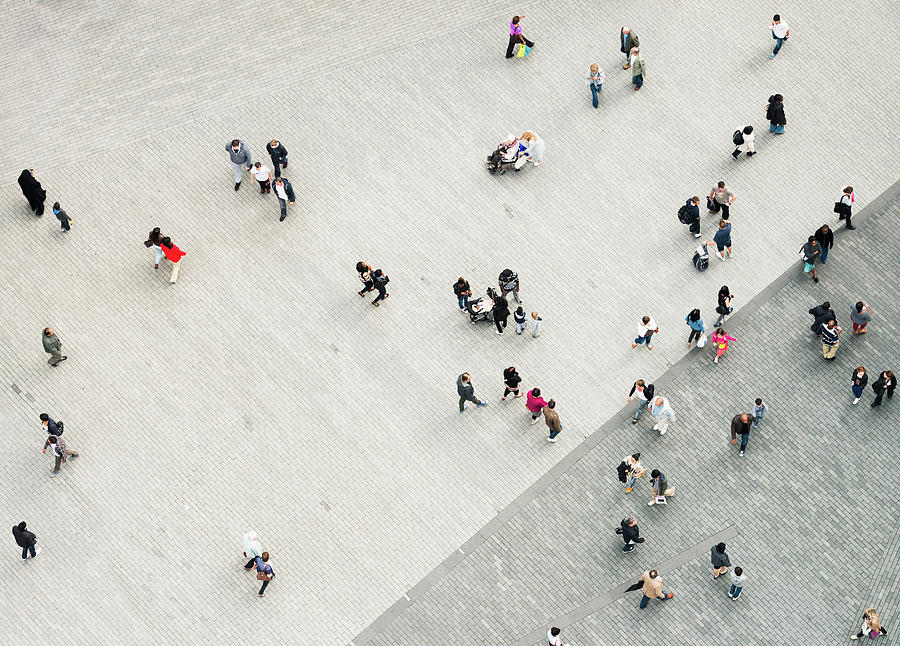person: (41, 434, 81, 479), (224, 139, 252, 191), (18, 168, 47, 218), (639, 569, 675, 609), (457, 371, 490, 413), (505, 14, 535, 60), (850, 607, 889, 641), (159, 236, 186, 285), (627, 379, 655, 426), (11, 520, 42, 562), (704, 219, 734, 262), (706, 180, 736, 222), (485, 134, 519, 171), (615, 515, 647, 553), (647, 396, 678, 435), (618, 452, 646, 495), (730, 412, 756, 458), (41, 325, 68, 368), (832, 185, 857, 231), (648, 467, 676, 507), (38, 412, 64, 455), (272, 177, 296, 223), (517, 130, 547, 166), (809, 300, 837, 338), (801, 235, 823, 283), (768, 13, 790, 60), (871, 369, 898, 407), (730, 124, 757, 162), (368, 267, 393, 307), (631, 316, 660, 350), (684, 308, 708, 349), (712, 325, 737, 364), (542, 399, 564, 443), (766, 93, 788, 136), (498, 268, 523, 305), (714, 284, 735, 328), (255, 552, 275, 598), (586, 63, 606, 109), (820, 320, 842, 361), (620, 25, 640, 70), (241, 529, 262, 570), (814, 224, 835, 265), (354, 260, 377, 297), (849, 299, 873, 334), (685, 195, 704, 239), (501, 366, 525, 400), (527, 387, 549, 424), (629, 46, 647, 91), (267, 139, 288, 177), (711, 541, 732, 579), (492, 295, 511, 336), (52, 201, 75, 234), (149, 226, 166, 270), (250, 161, 272, 194), (453, 277, 473, 313), (850, 365, 868, 405), (727, 565, 746, 601), (752, 397, 768, 427), (547, 626, 570, 646), (513, 306, 528, 335)
